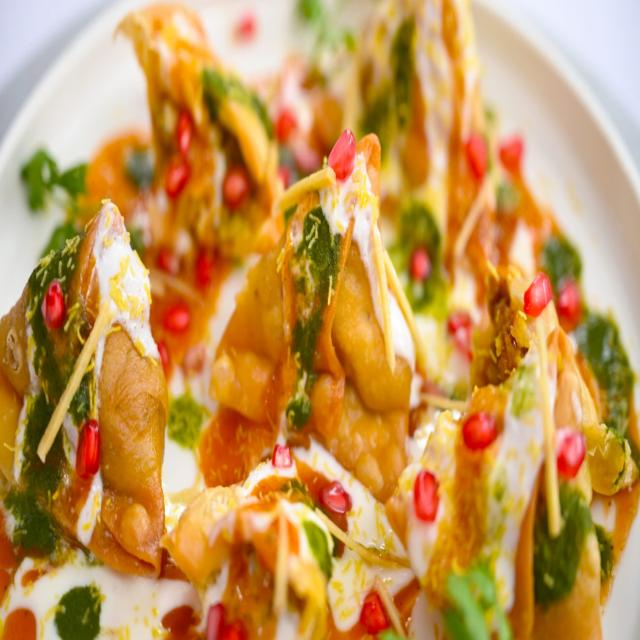SAMOSA: (386, 193, 640, 639), (210, 132, 411, 500), (86, 5, 280, 363), (0, 200, 167, 573)
